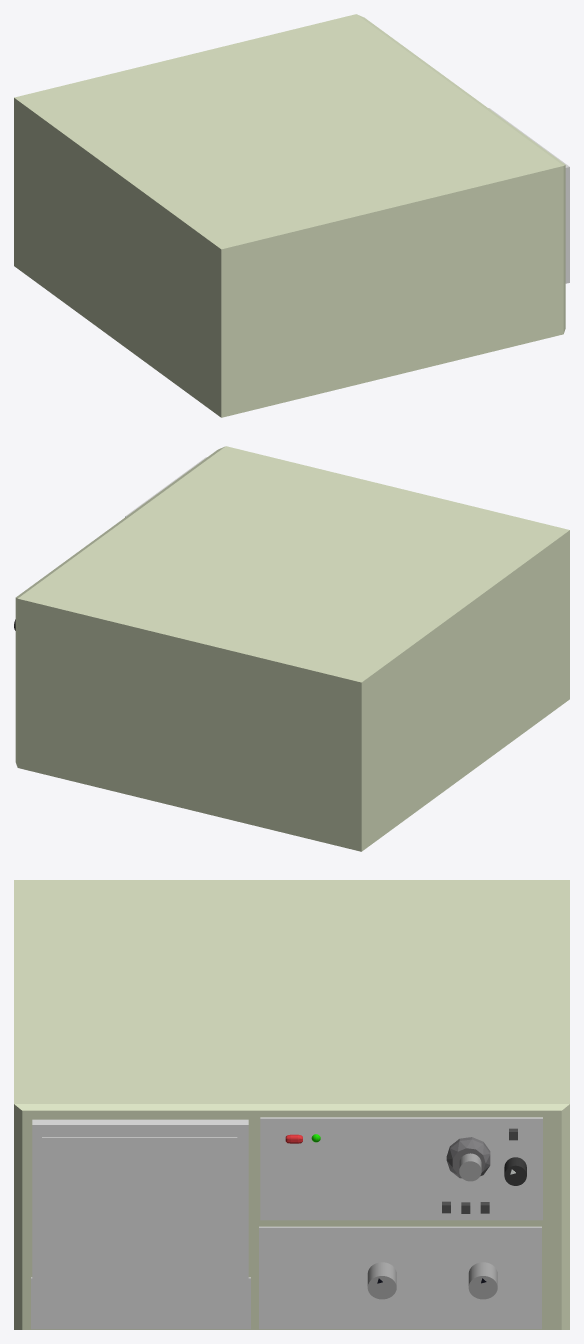
The model's file is cro.dae.
3 renders of one model, top to bottom at view 1: azimuth 30°, elevation 25°; view 2: azimuth 150°, elevation 25°; view 3: azimuth 270°, elevation 25°, orthographic. The views are drawn at different scales.
Parts seen in each view (by area): view 1: Cube, Cube.001; view 2: Cube; view 3: Cube, Cube.004, Cube.003, Cube.002, Cube.005, Cube.001, Cylinder, Cylinder.006, Cylinder.003, Cylinder.005.
Part boxes in pixels (x1,y1,x2,y2): Cube: (14,14,565,417); Cube.001: (488,108,569,283); Cube: (15,446,569,851); Cube: (14,880,569,1329); Cube.004: (259,1226,541,1329); Cube.003: (260,1117,542,1220); Cube.002: (42,1137,237,1265); Cube.005: (31,1277,250,1329); Cube.001: (32,1119,248,1280); Cylinder: (446,1137,490,1178); Cylinder.006: (468,1262,497,1299); Cylinder.003: (367,1262,396,1299); Cylinder.005: (459,1153,481,1181).
Bounding box in the file's own units: 4.6 × 4.46 × 2.
